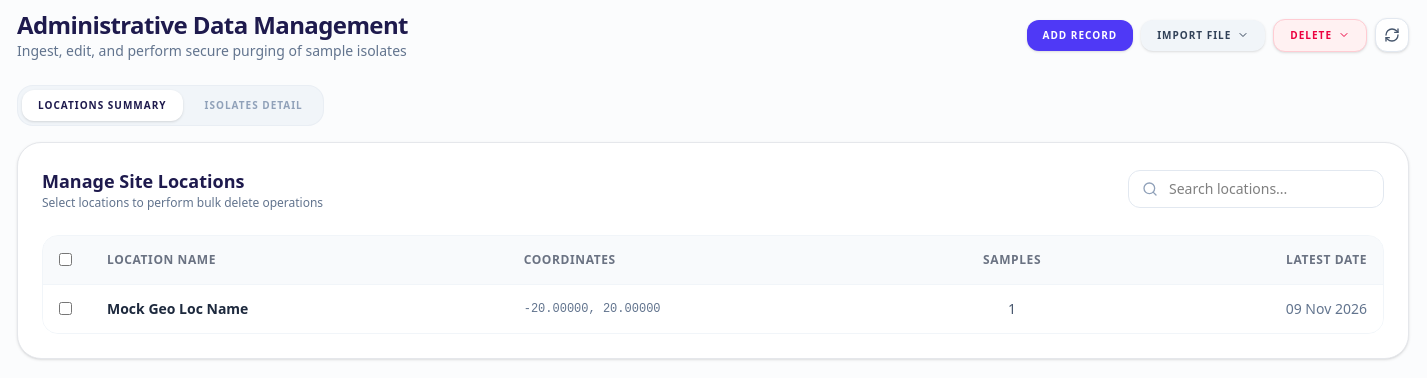
Test: Date Management Page Tests › Successfully selects all locations when record is clicked
Step 1. Click the checkbox next to "Location Name" → (66, 260), box [59,253,72,266]
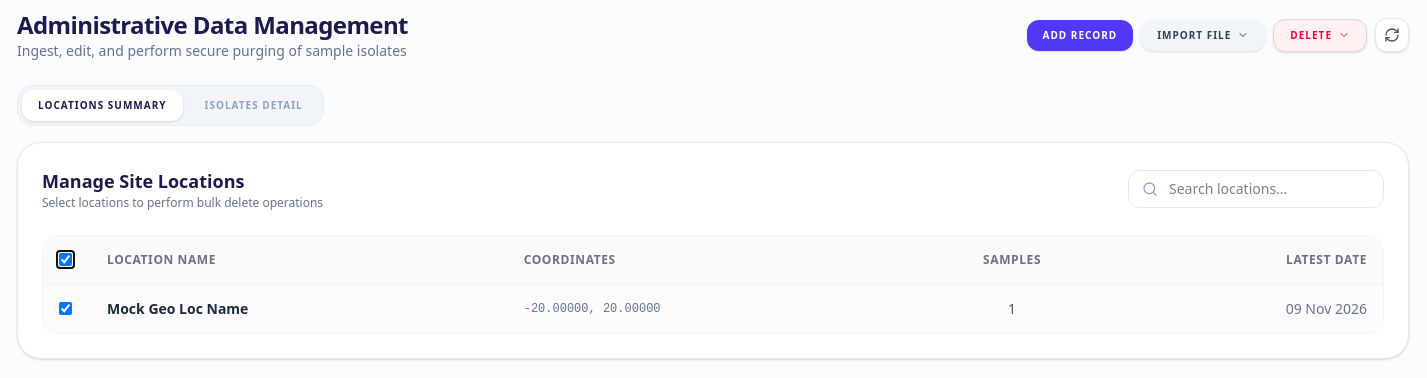
Check: the checkbox next to "Mock Geo Loc Name" is checked, box [59,302,72,315]
